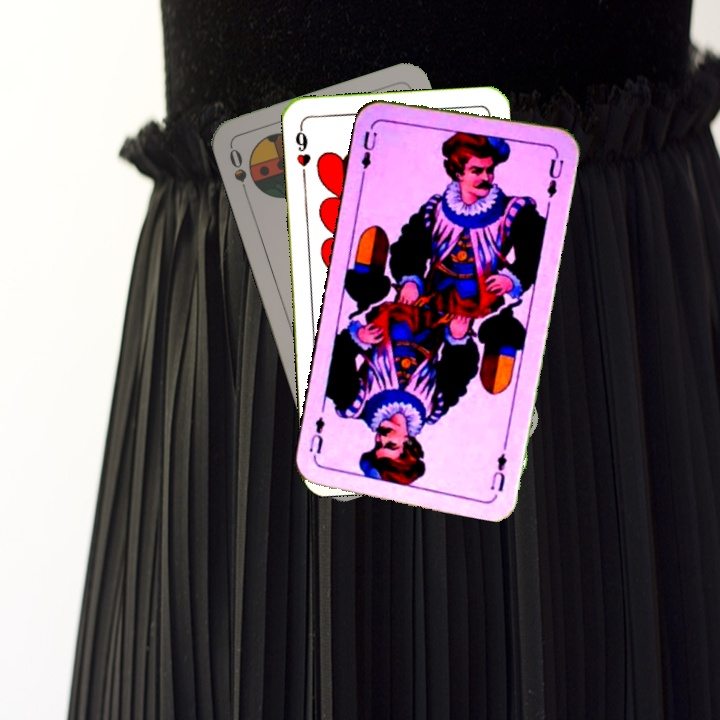EU: (487, 449, 512, 494), (357, 127, 380, 171)
H9: (291, 122, 313, 181)
SO: (225, 144, 251, 201)
